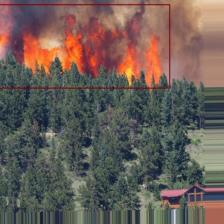fire: (0, 4, 170, 88)
